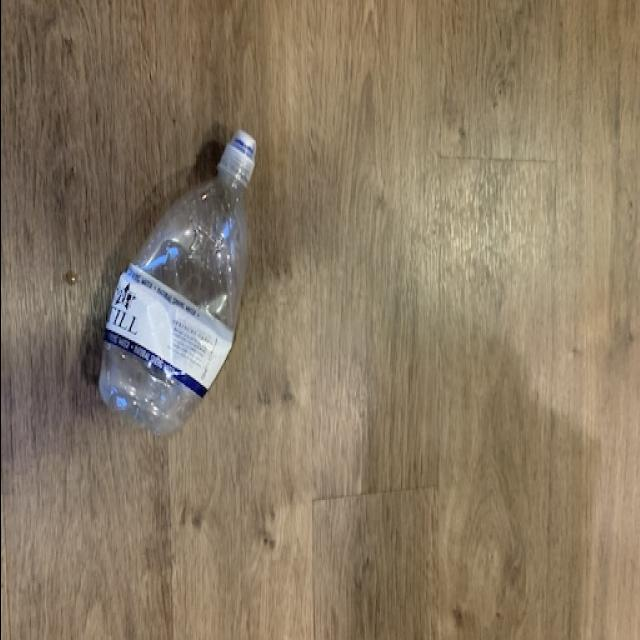PET: (96, 130, 256, 437)
